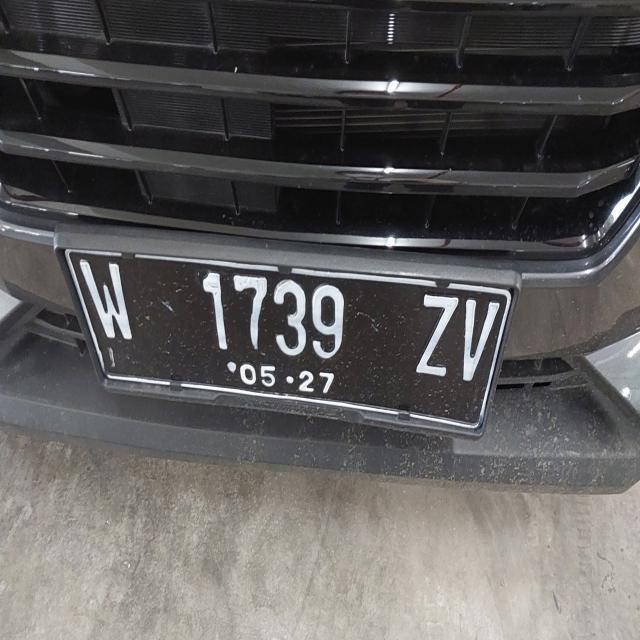1: (192, 251, 234, 369)
3: (266, 260, 310, 372)
7: (225, 248, 272, 364)
9: (310, 261, 350, 373)
V: (451, 273, 508, 410)
W: (76, 260, 135, 348)
Z: (408, 271, 460, 394)
